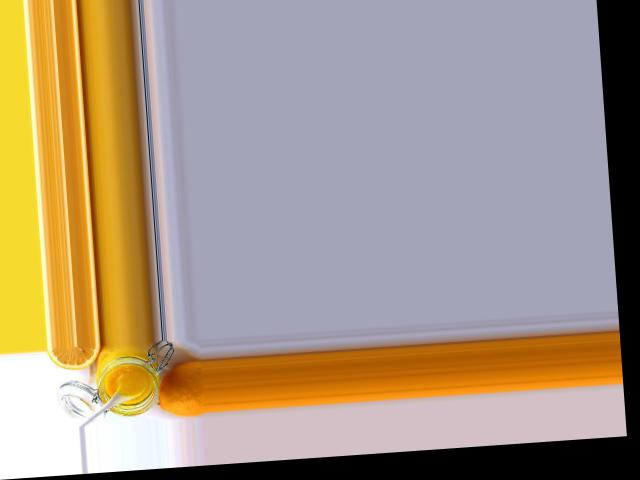lemon: (153, 361, 205, 416)
